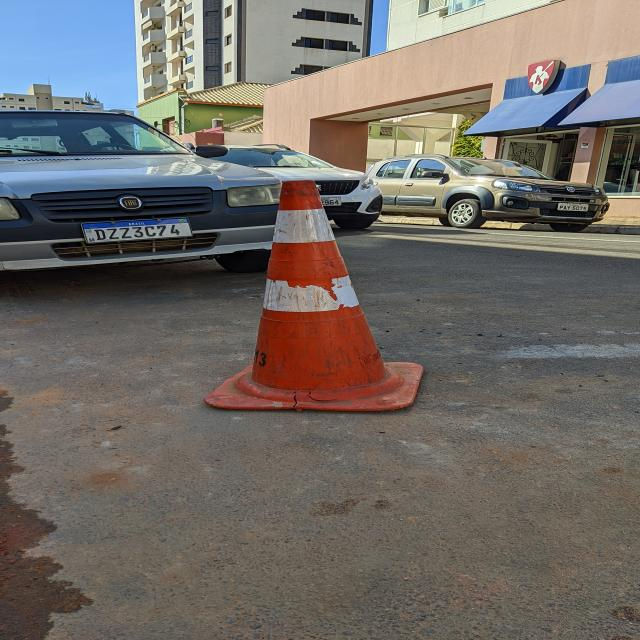cone: (196, 176, 433, 418)
